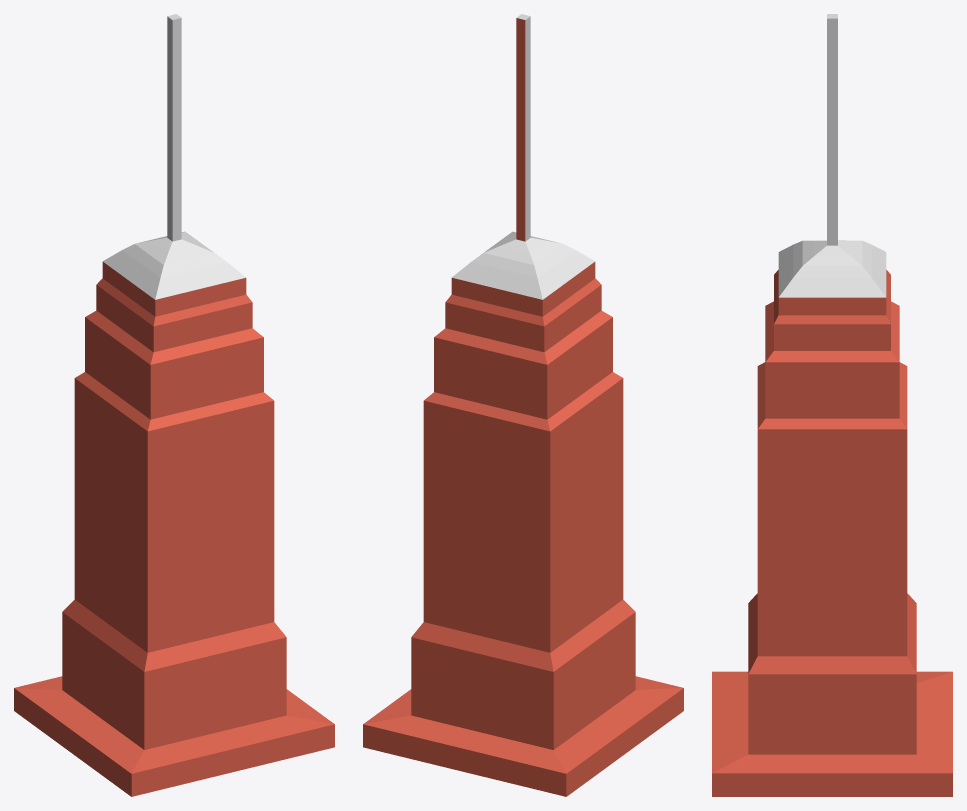
The model's file is Empire State.fbx.
The picture shows the model from 3 angles, left to right: view 1: azimuth 30°, elevation 25°; view 2: azimuth 150°, elevation 25°; view 3: azimuth 270°, elevation 25°; orthographic projection. The views are drawn at different scales.
Parts seen in each view (by area): view 1: Cube; view 2: Cube; view 3: Cube.
Part boxes in pixels (x1,y1,x2,y2): Cube: [14, 14, 334, 796]; Cube: [363, 14, 683, 796]; Cube: [712, 14, 952, 796].
Size of the model in its own units: 2000 by 6692 by 2000.
